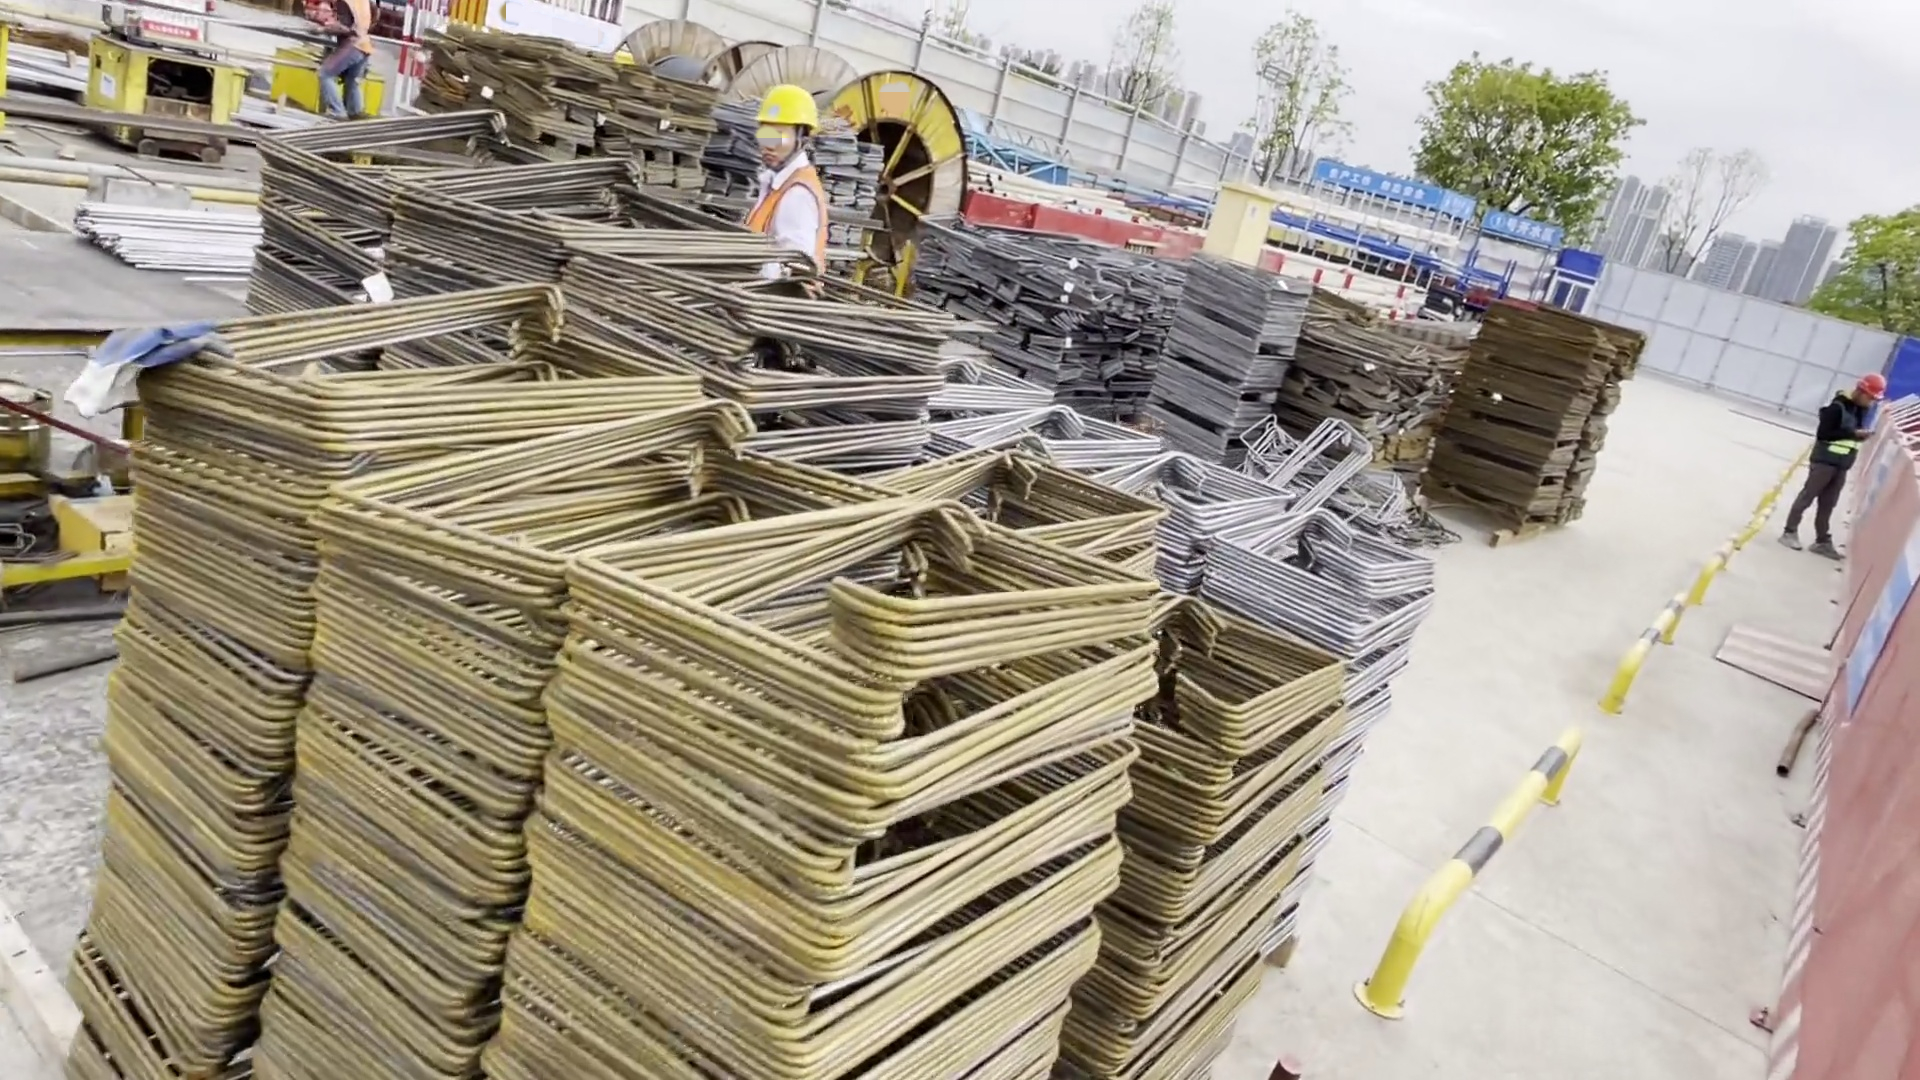cutter: (88, 29, 247, 166)
ebox: (1206, 184, 1273, 266)
fence: (1765, 395, 1917, 1075), (962, 192, 1169, 255)
helmet: (754, 82, 823, 136), (1857, 376, 1882, 399)
person: (1776, 375, 1888, 562), (750, 86, 827, 289), (318, 1, 378, 126)
slogan: (1314, 167, 1565, 258)
vest: (755, 168, 825, 253), (348, 1, 376, 51)
